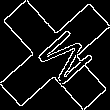M_SW: (21, 21, 89, 89)
